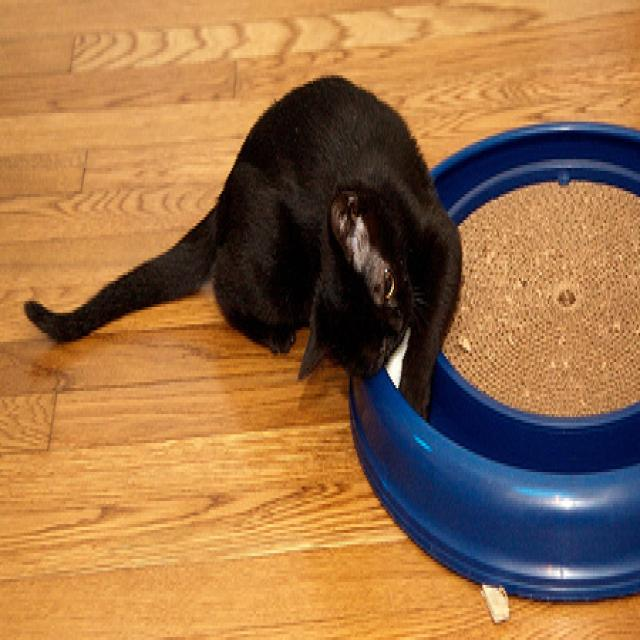Bombay: (22, 70, 464, 438)
